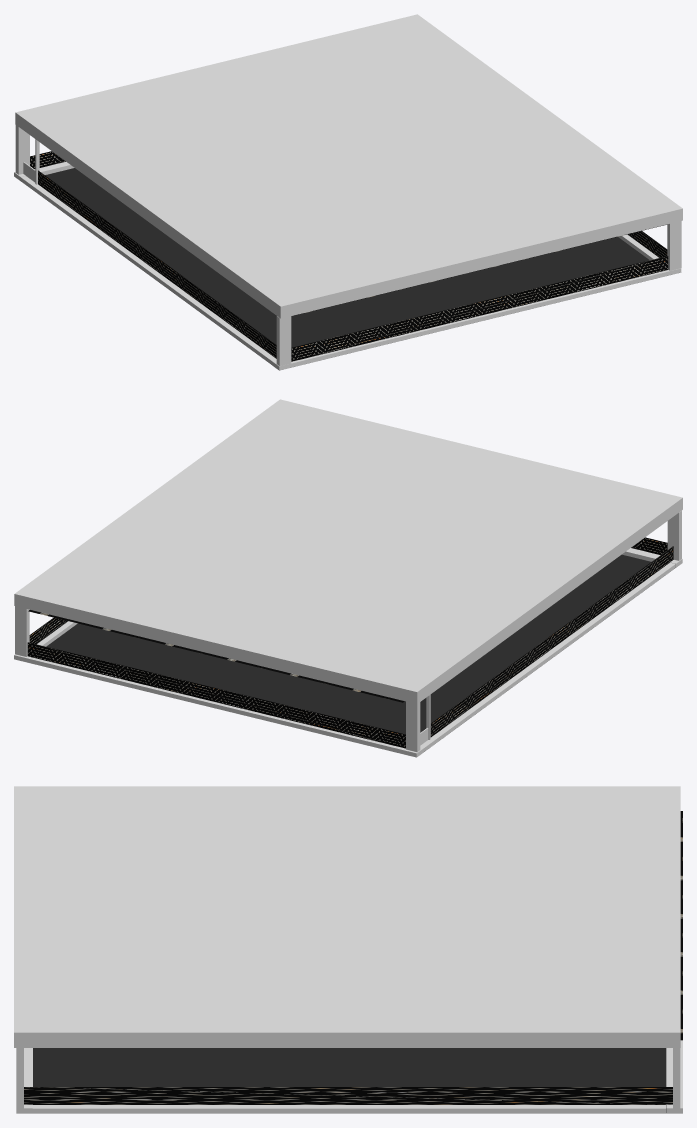
The model's file is cenario2.FBX.
3 renders of one model, top to bottom at view 1: azimuth 30°, elevation 25°; view 2: azimuth 150°, elevation 25°; view 3: azimuth 270°, elevation 25°, orthographic. The views are drawn at different scales.
Visible parts, largest first — view 1: Box009, Plane001, Plane004, Plane005, Box002, Box004, Box007, Box008, Box006; view 2: Box009, Plane001, Plane003, Plane005, Box001, Box004, Plane002, Box006, Box005, Box007; view 3: Box009, Plane001, Plane006, Box003, Plane002, Box001.
Boxes of the visible parts, x1,y1,x2,y2 form: Box009: (15, 14, 682, 318); Plane001: (45, 168, 649, 347); Plane004: (291, 256, 668, 361); Plane005: (38, 170, 276, 358); Box002: (272, 268, 681, 370); Box004: (20, 176, 276, 365); Box007: (276, 316, 291, 365); Box008: (667, 221, 681, 270); Box006: (15, 125, 29, 174); Box009: (14, 399, 682, 703); Plane001: (46, 554, 674, 751); Plane003: (27, 642, 405, 748); Plane005: (430, 546, 673, 737); Box001: (14, 654, 423, 757); Box004: (420, 562, 675, 752); Plane002: (28, 610, 404, 702); Box006: (406, 701, 420, 752); Box005: (15, 606, 29, 656); Box007: (667, 510, 681, 560); Box009: (14, 786, 680, 1047); Plane001: (33, 1048, 666, 1112); Plane006: (24, 1087, 672, 1104); Box003: (32, 1105, 665, 1113); Plane002: (680, 811, 682, 1040); Box001: (666, 1040, 682, 1113).
Bounding box in the file's own units: 1380 × 211 × 1580.
